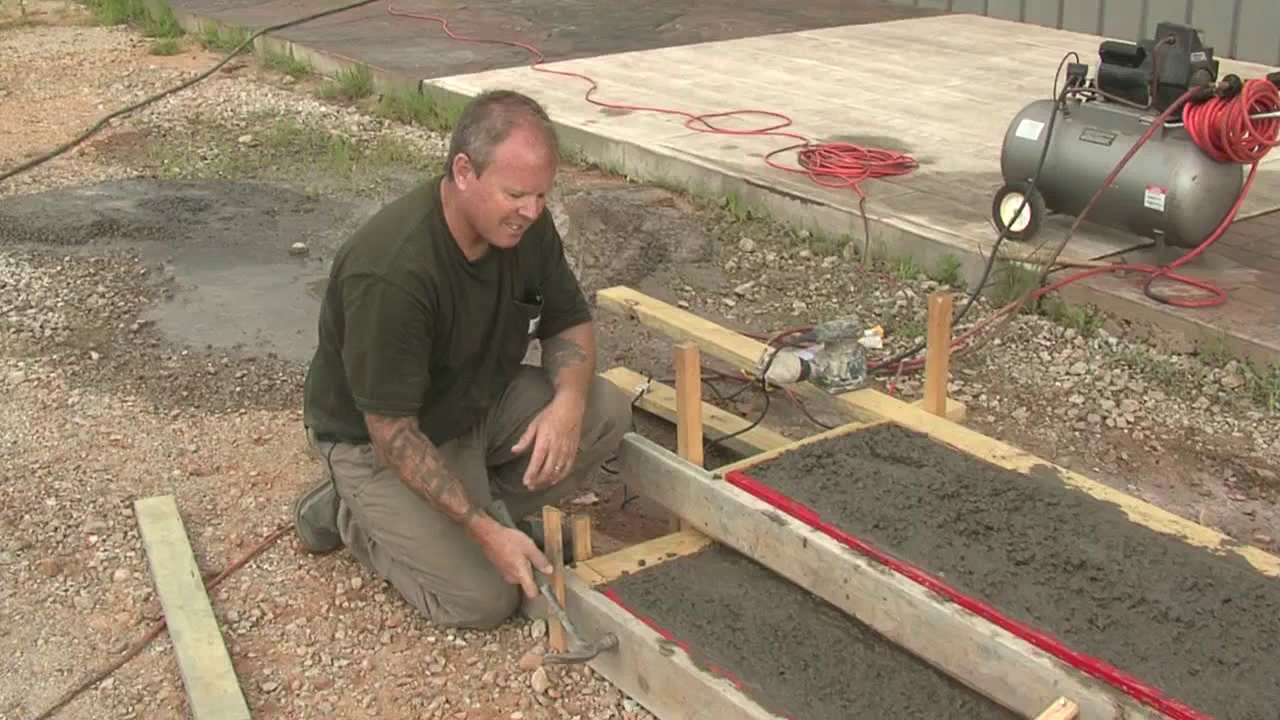person: (294, 89, 631, 630)
